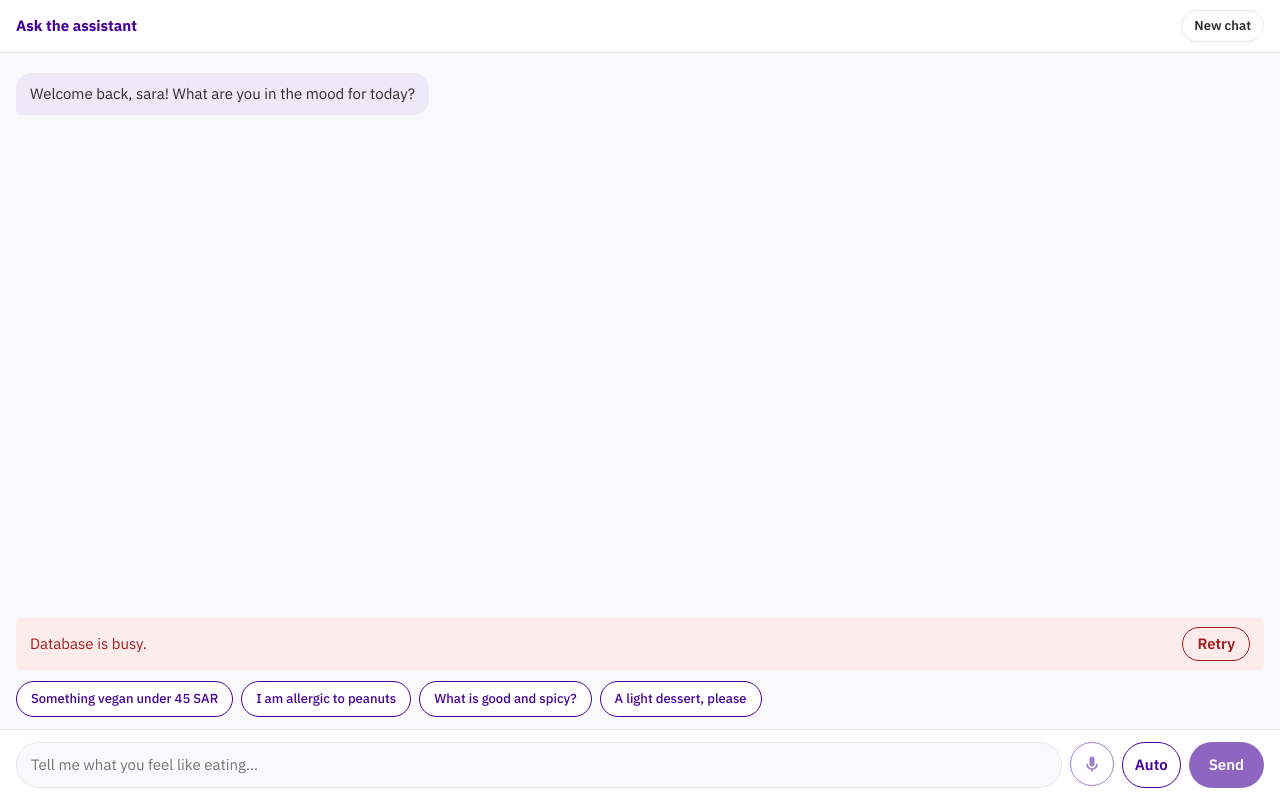
Test case: ChatPanel › a failed new chat can be retried
Expected: the message shows "Database is busy.", [30,634,147,652]
Click the button "Retry": point(1216, 644) [1182,626,1250,661]
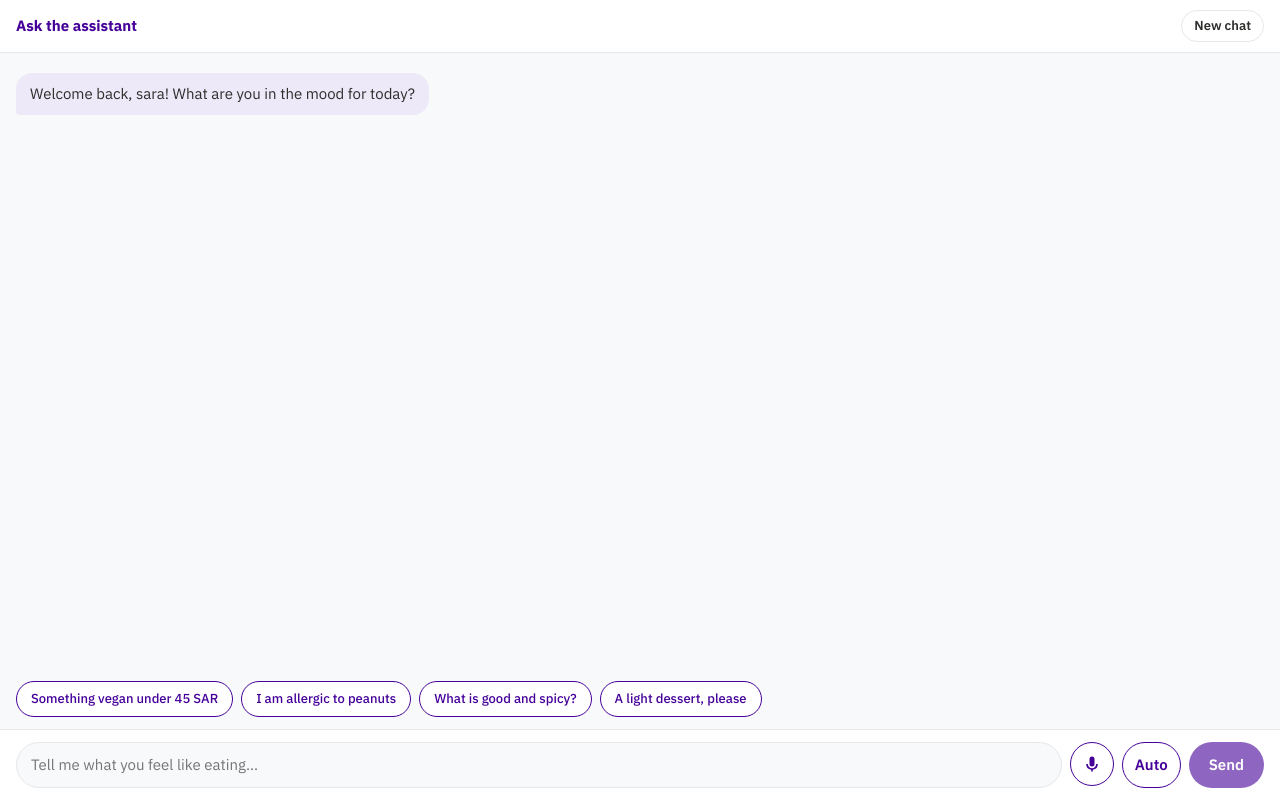
Expected: the field named "Message" is enabled, [16,742,1062,788]
Now the message "Database is busy. Retry" is gone
